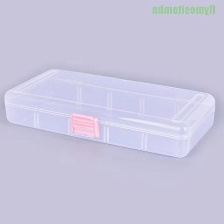plastic_box: (0, 61, 224, 163)
